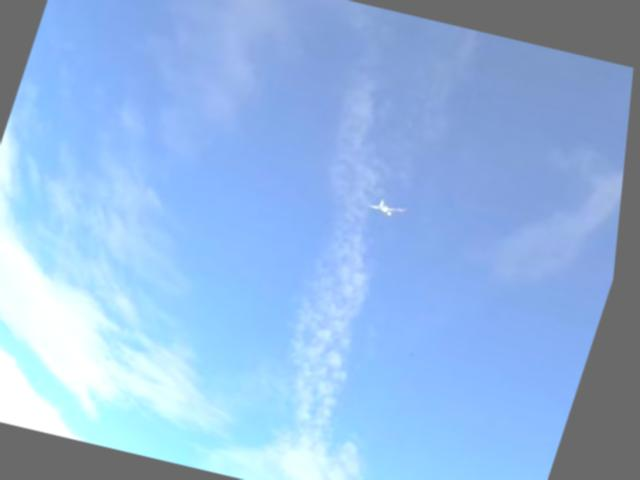uav: (363, 186, 419, 232)
